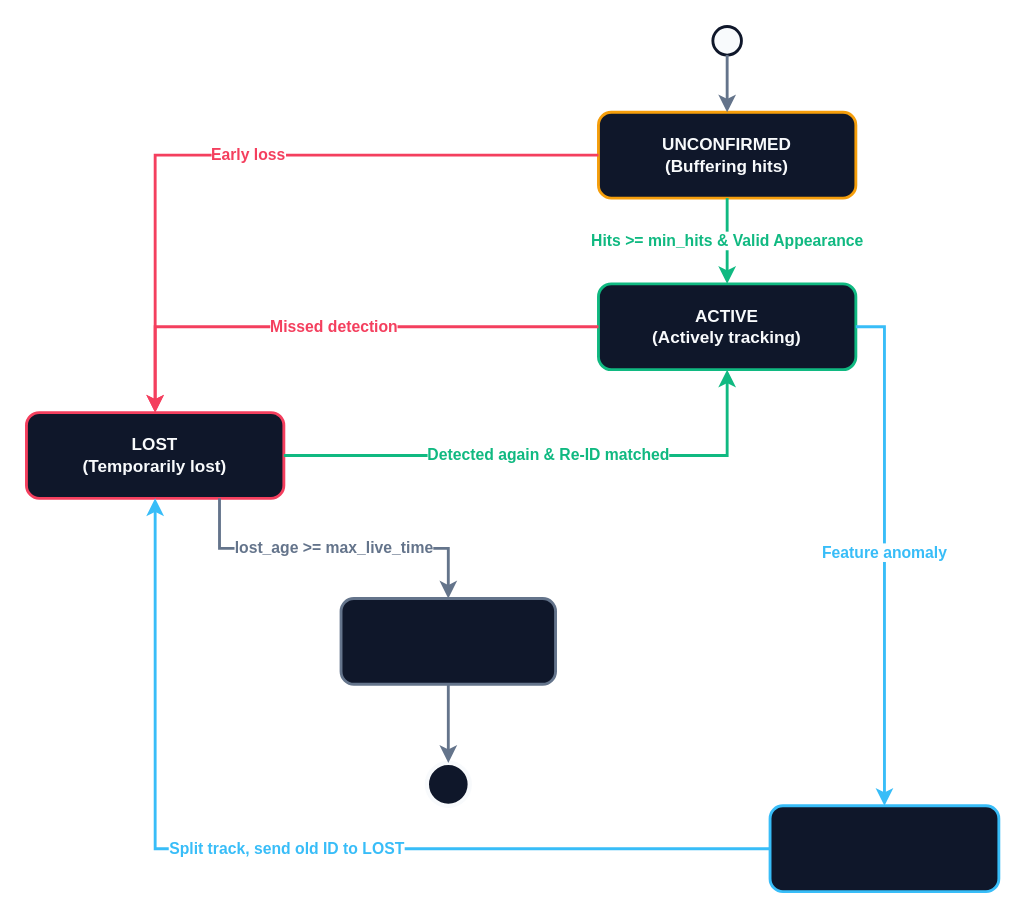
This 1024x917 diagram has some shape labels left out. Here are the shapes that lost their labels. From the top down, the box of each, then its label:
(339, 596, 556, 685): DEAD (Removed from Gallery)
(768, 804, 1000, 892): CHANGED (Drastic appearance change)
